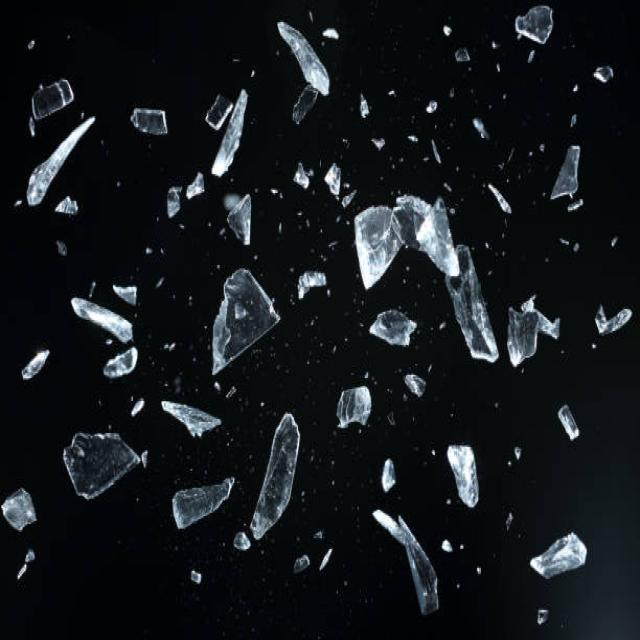PecahanKaca: (5, 5, 98, 228), (359, 193, 453, 284), (442, 238, 500, 363), (217, 266, 281, 379), (373, 508, 440, 614), (71, 278, 138, 376), (256, 406, 297, 555), (279, 25, 329, 126), (66, 426, 136, 495), (207, 88, 245, 181), (514, 292, 554, 368), (531, 527, 582, 577), (448, 442, 484, 510)
